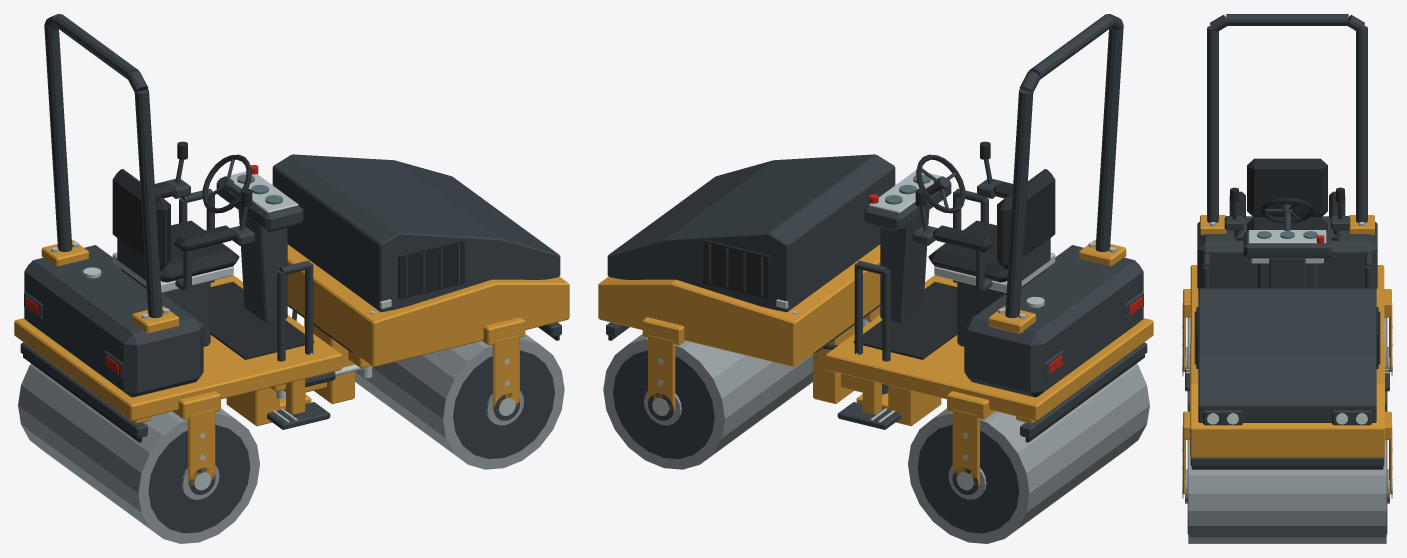
3 renders of one model, left to right at view 1: azimuth 30°, elevation 25°; view 2: azimuth 150°, elevation 25°; view 3: azimuth 270°, elevation 25°, orthographic. The views are drawn at different scales.
Parts seen in each view (by area): view 1: closed_sloping_engine_hood, rear_tank_closed, front_closed_chassis, rear_continuous_closed_drum, rear_operator_platform, front_continuous_closed_drum, rear_-1_end_recess_plate, front_-1_end_recess_plate, operator_floor_mat, console_floor_column, ROPS_upright_-1, ROPS_upright_1 (+23 smaller); view 2: closed_sloping_engine_hood, rear_tank_closed, front_closed_chassis, rear_continuous_closed_drum, rear_operator_platform, front_continuous_closed_drum, rear_+1_end_recess_plate, front_+1_end_recess_plate, operator_floor_mat, console_floor_column, ROPS_upright_1, ROPS_upright_-1 (+23 smaller); view 3: closed_sloping_engine_hood, front_continuous_closed_drum, front_closed_chassis, rear_tank_closed, seat_back, ROPS_upright_-1, ROPS_upright_1, front_scraper_backing, console_housing, ROPS_crossbar, console_floor_column, rear_operator_platform (+16 smaller).
Boxes of the visible parts, x1,y1,x2,y2 form: closed_sloping_engine_hood: (272, 154, 560, 312); rear_tank_closed: (24, 245, 203, 397); front_closed_chassis: (287, 244, 569, 366); rear_continuous_closed_drum: (18, 363, 259, 543); rear_operator_platform: (14, 275, 342, 420); front_continuous_closed_drum: (355, 334, 564, 469); rear_-1_end_recess_plate: (148, 424, 250, 533); front_-1_end_recess_plate: (453, 350, 554, 458); operator_floor_mat: (210, 281, 314, 359); console_floor_column: (238, 210, 287, 322); ROPS_upright_-1: (134, 89, 162, 318); ROPS_upright_1: (44, 24, 72, 251); closed_sloping_engine_hood: (607, 154, 895, 312); rear_tank_closed: (964, 245, 1143, 397); front_closed_chassis: (598, 244, 880, 366); rear_continuous_closed_drum: (908, 363, 1149, 543); rear_operator_platform: (825, 275, 1153, 420); front_continuous_closed_drum: (603, 334, 812, 469); rear_+1_end_recess_plate: (917, 424, 1019, 533); front_+1_end_recess_plate: (613, 350, 714, 458); operator_floor_mat: (853, 281, 957, 359); console_floor_column: (880, 210, 929, 322); ROPS_upright_1: (1005, 89, 1033, 318); ROPS_upright_-1: (1095, 24, 1123, 251); closed_sloping_engine_hood: (1198, 288, 1376, 422); front_continuous_closed_drum: (1188, 440, 1386, 543); front_closed_chassis: (1190, 342, 1384, 457); rear_tank_closed: (1197, 216, 1377, 288); seat_back: (1247, 158, 1327, 217); ROPS_upright_-1: (1207, 26, 1218, 222); ROPS_upright_1: (1356, 26, 1367, 222); front_scraper_backing: (1190, 457, 1384, 466); console_housing: (1243, 231, 1331, 258); ROPS_crossbar: (1226, 14, 1348, 25); console_floor_column: (1269, 258, 1305, 287); rear_operator_platform: (1190, 265, 1384, 341).
Size of the model in its own units: 2.53 by 2.57 by 1.27.
